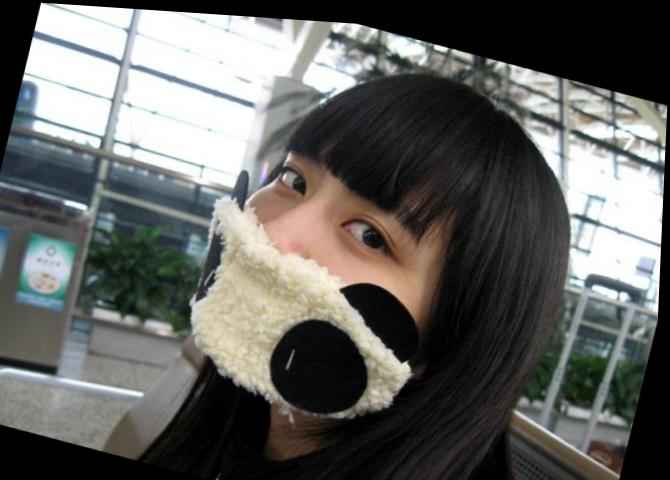WRONG: (177, 131, 463, 422)
